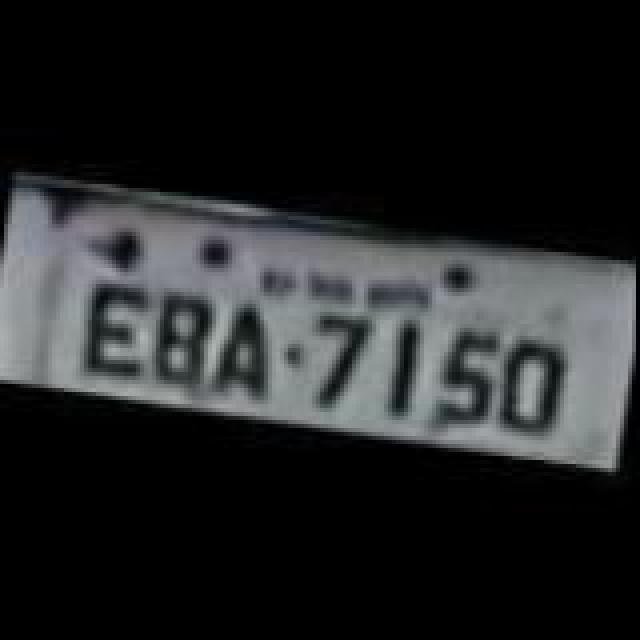1: (382, 316, 434, 428)
5: (430, 320, 506, 432)
7: (302, 306, 378, 418)
A: (204, 292, 284, 404)
B: (146, 294, 222, 394)
E: (76, 278, 156, 386)
O: (490, 334, 570, 442)
